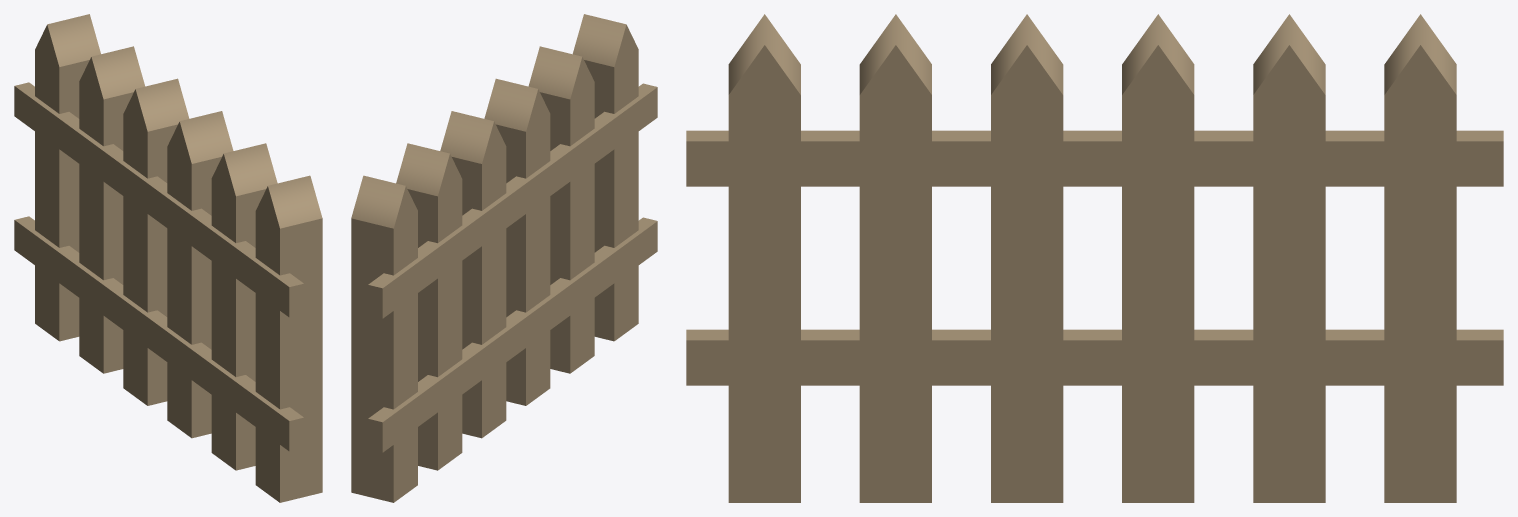
The model's file is Fence2.fbx.
The picture shows the model from 3 angles, left to right: view 1: azimuth 30°, elevation 25°; view 2: azimuth 150°, elevation 25°; view 3: azimuth 270°, elevation 25°; orthographic projection. The views are drawn at different scales.
Parts seen in each view (by area): view 1: polySurface25; view 2: polySurface25; view 3: polySurface25.
Part boxes in pixels (x1=…): polySurface25: x1=14, y1=14, x2=322, y2=502; polySurface25: x1=351, y1=14, x2=657, y2=502; polySurface25: x1=686, y1=14, x2=1503, y2=502.
Size of the model in its own units: 4.23 by 26.3 by 42.53.
